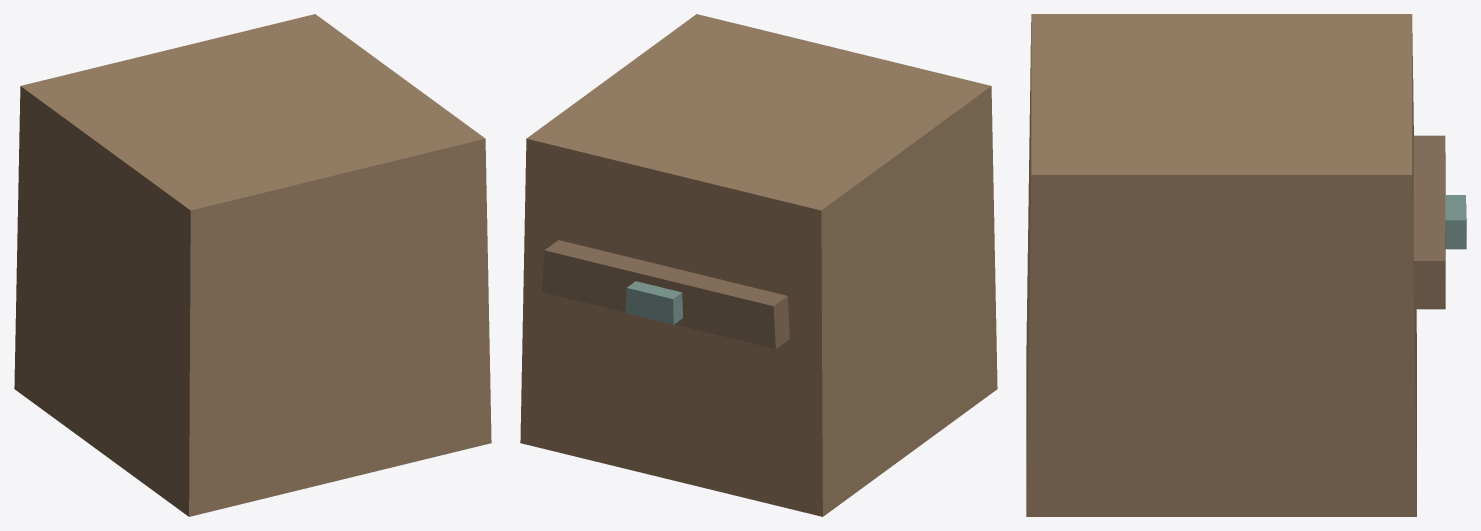
Rendered from nightstand.glb.
The picture shows the model from 3 angles, left to right: view 1: azimuth 30°, elevation 25°; view 2: azimuth 150°, elevation 25°; view 3: azimuth 270°, elevation 25°; orthographic projection. The views are drawn at different scales.
Parts seen in each view (by area): view 1: part_0; view 2: part_0, part_1, part_2; view 3: part_0, part_1, part_2.
Part boxes in pixels (x1,y1,x2,y2): part_0: (14, 14, 491, 516); part_0: (520, 14, 997, 516); part_1: (542, 240, 789, 348); part_2: (625, 281, 682, 324); part_0: (1026, 14, 1416, 516); part_1: (1413, 135, 1445, 309); part_2: (1445, 195, 1466, 249).
Size of the model in its own units: 0.75 by 0.72 by 0.845.
